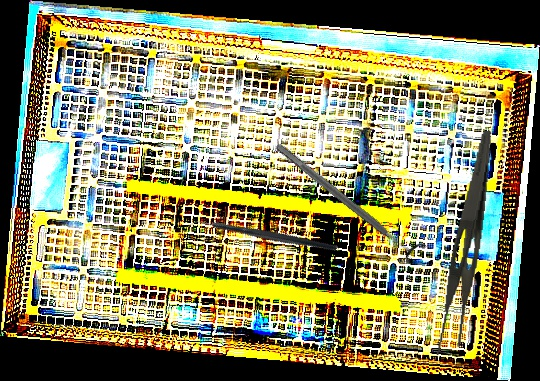Chopper: (186, 174, 339, 301)
Dressing Forceps: (433, 127, 493, 359)
Fixation Ring: (268, 134, 428, 268)
